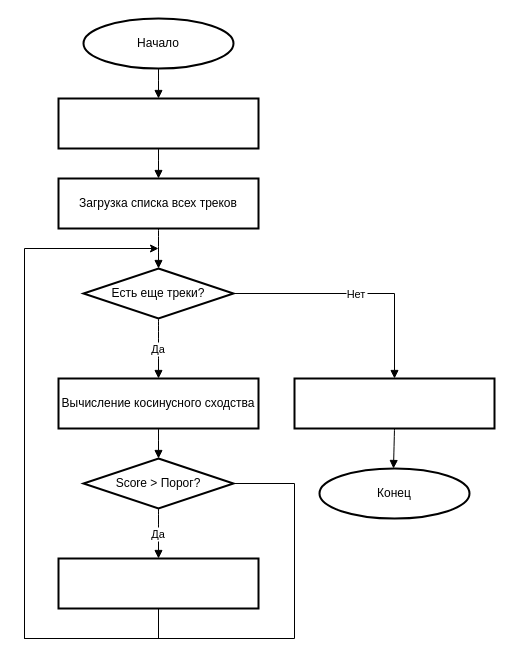
This 513x664 diagram has some shape labels left out. Each missing label, with the centre of its shape:
"Добавить в список кандидатов" goes at (158,583).
"Получение вектора профиля" goes at (158,123).
"Сортировка по убыванию" goes at (394,403).
